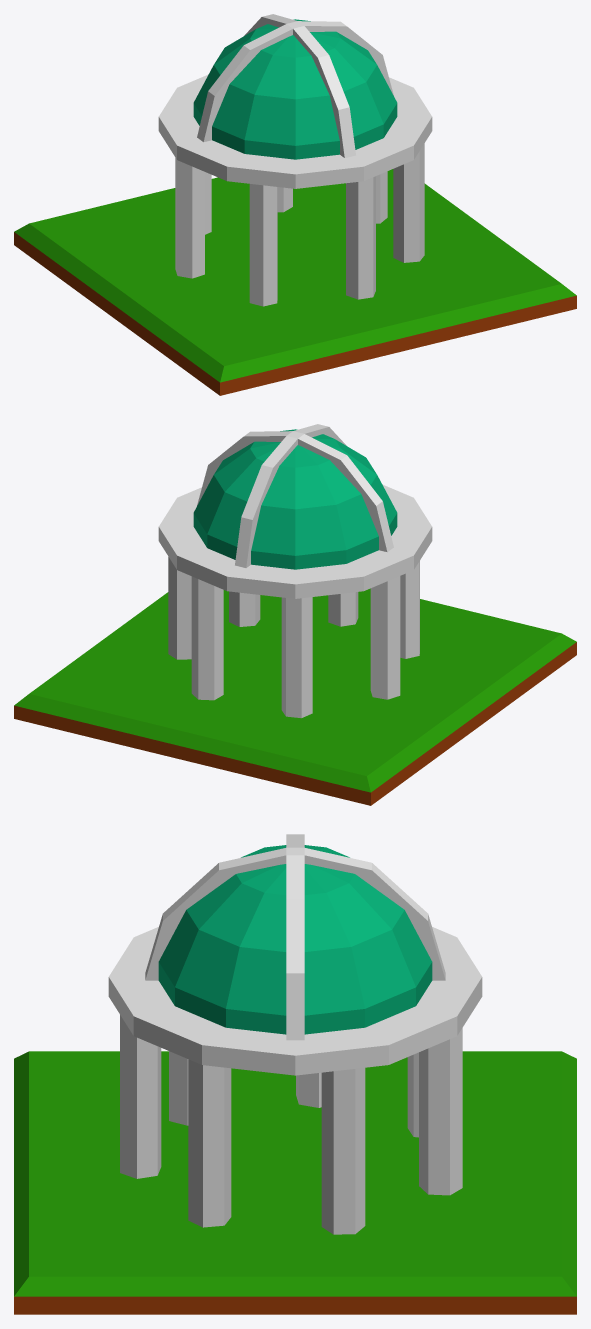
File: Pavilion.fbx
The picture shows the model from 3 angles, top to bottom: view 1: azimuth 30°, elevation 25°; view 2: azimuth 150°, elevation 25°; view 3: azimuth 270°, elevation 25°; orthographic projection. The views are drawn at different scales.
Visible parts, largest first — view 1: Pavilion; view 2: Pavilion; view 3: Pavilion.
Part boxes in pixels (left/top/right/bottom): Pavilion: left=14, top=14, right=576, bottom=395; Pavilion: left=14, top=424, right=576, bottom=805; Pavilion: left=14, top=834, right=576, bottom=1314.
Size of the model in its own units: 51.25 by 34.59 by 51.25.
